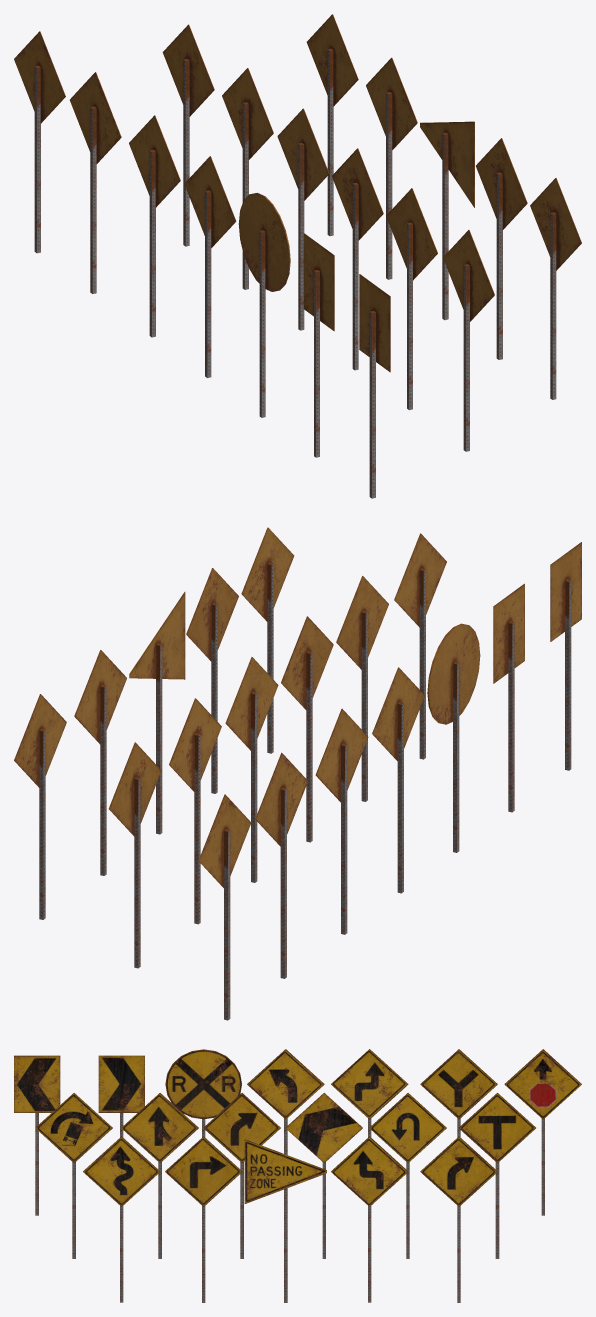
The model's file is caution_signs_set_2.glb.
3 views of the same model, one above another, from view 1: azimuth 30°, elevation 25°; view 2: azimuth 150°, elevation 25°; view 3: azimuth 270°, elevation 25° (orthographic). The views are drawn at different scales.
Parts seen in each view (by area): view 1: pCylinder2, pCube115, pCube22, pCube30, pCube25, pCube20, pCube33, pCube28, pCube29, pCube24, pCube26, pCube27 (+24 smaller); view 2: pCylinder2, pCube115, pCube25, pCube23, pCube20, pCube28, pCube33, pCube24, pCube27, pCube34, pCube29, pCube1 (+24 smaller); view 3: pCylinder2, pCube115, pCube21, pCube1, pCube26, pCube34, pCube30, pCube24, pCube25, pCube27, pCube29, pCube28 (+19 smaller).
Boxes of the visible parts, x1=… form: pCylinder2: x1=238, y1=192, x2=290, y2=291; pCube115: x1=420, y1=121, x2=474, y2=207; pCube22: x1=14, y1=31, x2=65, y2=123; pCube30: x1=129, y1=115, x2=180, y2=207; pCube25: x1=530, y1=178, x2=581, y2=270; pCube20: x1=162, y1=24, x2=214, y2=116; pCube33: x1=332, y1=148, x2=383, y2=240; pCube28: x1=306, y1=14, x2=358, y2=106; pCube29: x1=70, y1=72, x2=121, y2=163; pCube24: x1=222, y1=68, x2=273, y2=159; pCube26: x1=277, y1=108, x2=329, y2=200; pCube27: x1=476, y1=138, x2=527, y2=229; pCylinder2: x1=427, y1=623, x2=480, y2=724; pCube115: x1=129, y1=592, x2=185, y2=679; pCube25: x1=241, y1=527, x2=294, y2=621; pCube23: x1=74, y1=650, x2=126, y2=744; pCube20: x1=108, y1=742, x2=161, y2=836; pCube28: x1=14, y1=694, x2=66, y2=787; pCube33: x1=281, y1=616, x2=333, y2=709; pCube24: x1=169, y1=698, x2=221, y2=791; pCube27: x1=186, y1=568, x2=238, y2=661; pCube34: x1=372, y1=667, x2=424, y2=760; pCube29: x1=255, y1=752, x2=307, y2=846; pCube1: x1=336, y1=576, x2=388, y2=669; pCylinder2: x1=165, y1=1049, x2=241, y2=1119; pCube115: x1=244, y1=1139, x2=326, y2=1203; pCube21: x1=35, y1=1093, x2=112, y2=1162; pCube1: x1=121, y1=1093, x2=198, y2=1162; pCube26: x1=285, y1=1093, x2=362, y2=1163; pCube34: x1=247, y1=1049, x2=324, y2=1119; pCube30: x1=331, y1=1049, x2=408, y2=1119; pCube24: x1=369, y1=1093, x2=446, y2=1162; pCube25: x1=83, y1=1136, x2=160, y2=1206; pCube27: x1=165, y1=1136, x2=242, y2=1206; pCube29: x1=420, y1=1049, x2=497, y2=1119; pCube28: x1=420, y1=1136, x2=497, y2=1206.
Size of the model in its own units: 20.37 by 17.77 by 54.98.
Materials: 1 (1 with a texture image).
